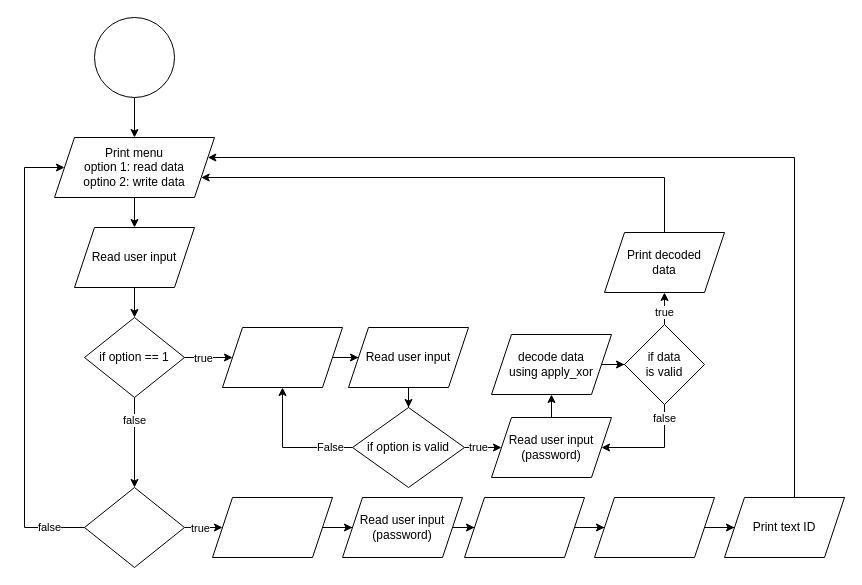
Some shapes in this 862 by 585 pixel diagram are drawn without their labels. Each missing label, with the box of its shape:
Encode text with password using apply_xor: (464, 496, 584, 558)
if option == 2: (84, 486, 184, 568)
main: (94, 16, 174, 98)
Print list of data in database: (222, 326, 342, 388)
Read user input (text): (212, 496, 332, 558)
Write encoded text to file: (594, 496, 714, 558)
